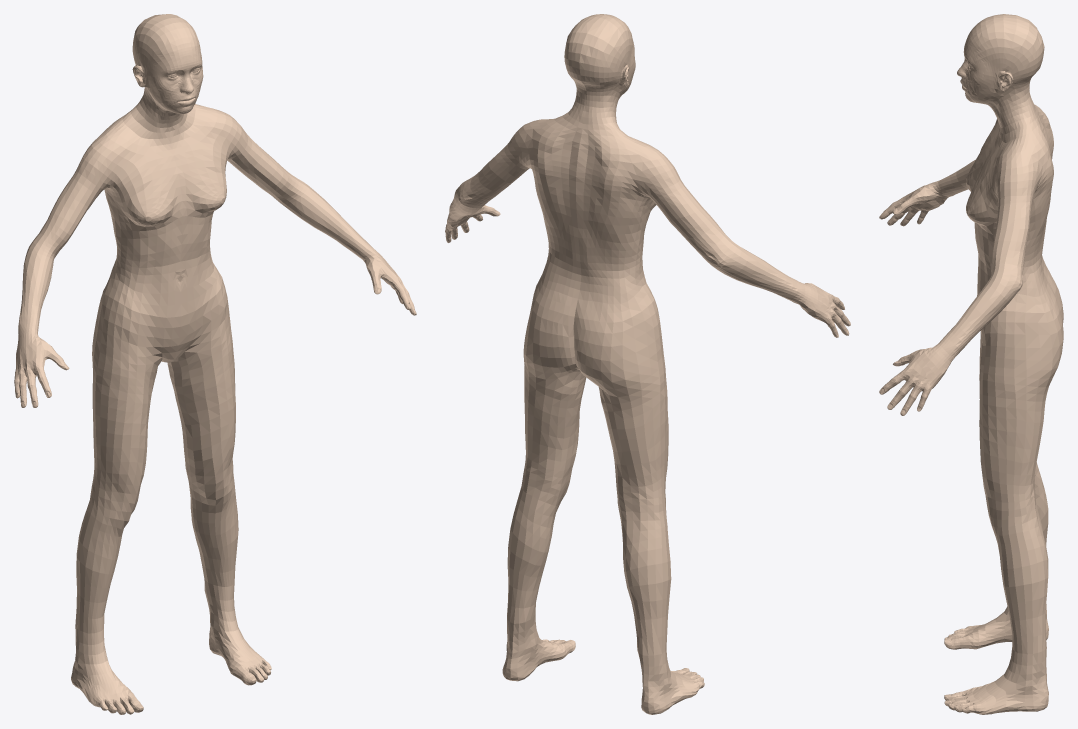
Rendered from female-mature-lean-strong.glb.
3 views of the same model, side by side, from view 1: azimuth 30°, elevation 25°; view 2: azimuth 150°, elevation 25°; view 3: azimuth 270°, elevation 25° (orthographic).
Parts seen in each view (by area): view 1: world; view 2: world; view 3: world.
Part boxes in pixels (box(x1,y1,x2,y2)): world: box(14, 14, 416, 714); world: box(445, 14, 850, 714); world: box(879, 14, 1063, 714).
Bounding box in the file's own units: 1.12 × 1.81 × 0.4587.
